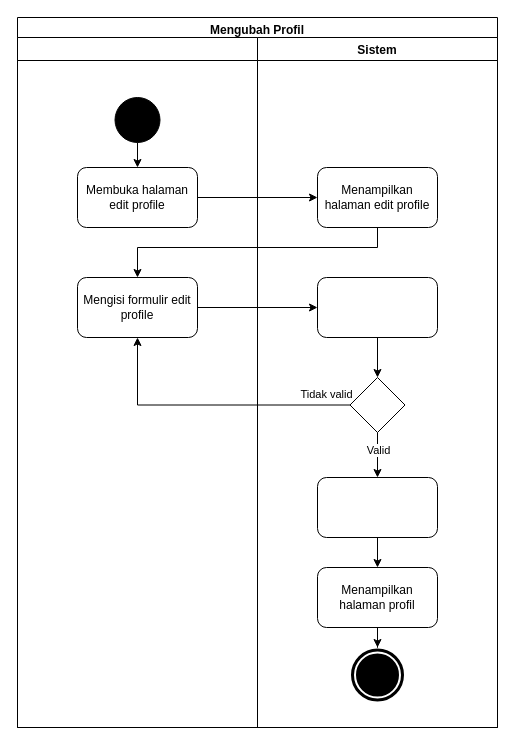
This 515x745 diagram has some shape labels left out. The shapes that lost their labels are listed below. From the top down, each one's box as (x1, y1, x2, y2) in pixels, then its label:
(316, 276, 438, 338): Melakukan validasi data
(16, 36, 258, 728): Member
(316, 476, 438, 538): Menyimpan data
